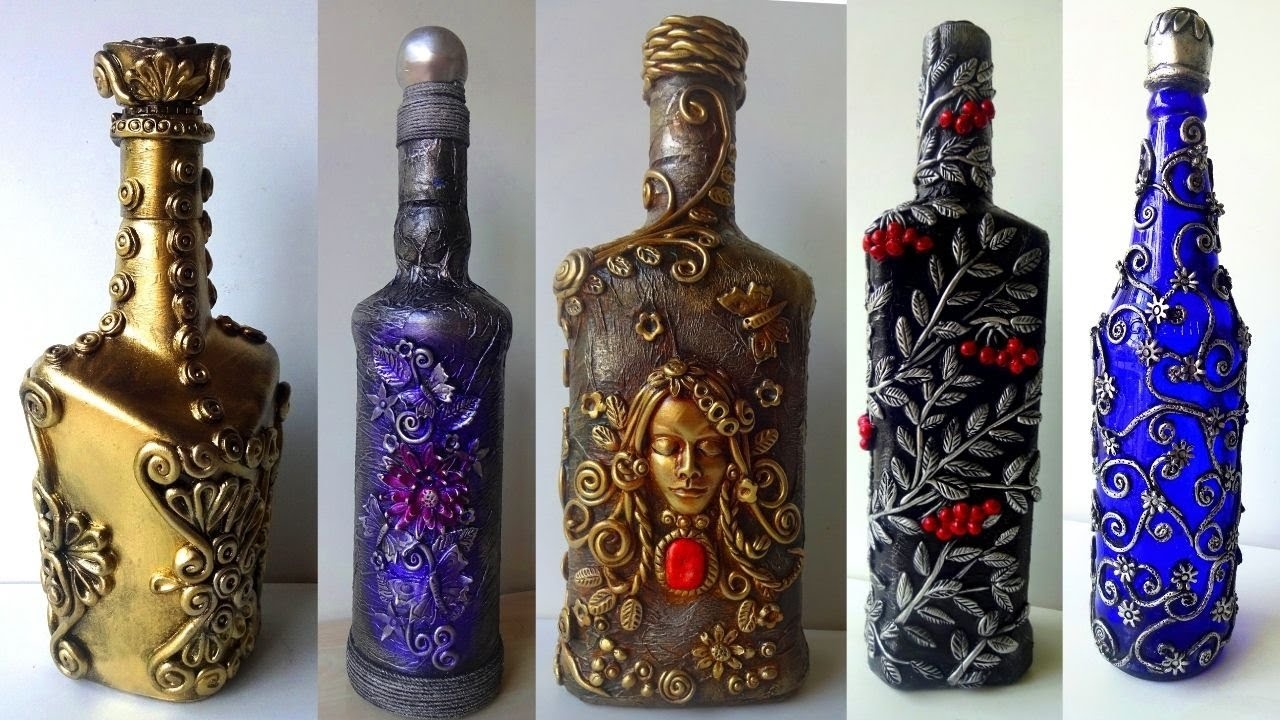glass_bottle: (544, 11, 823, 720), (13, 23, 294, 708), (857, 14, 1052, 702), (338, 21, 512, 720), (1084, 1, 1255, 688)
